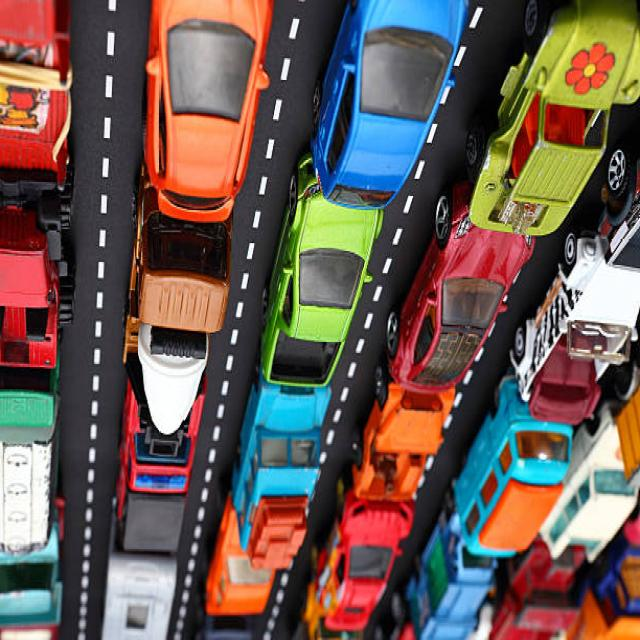Car: (465, 2, 640, 238), (310, 2, 470, 212), (386, 180, 536, 396), (260, 152, 385, 389), (143, 2, 275, 224)
